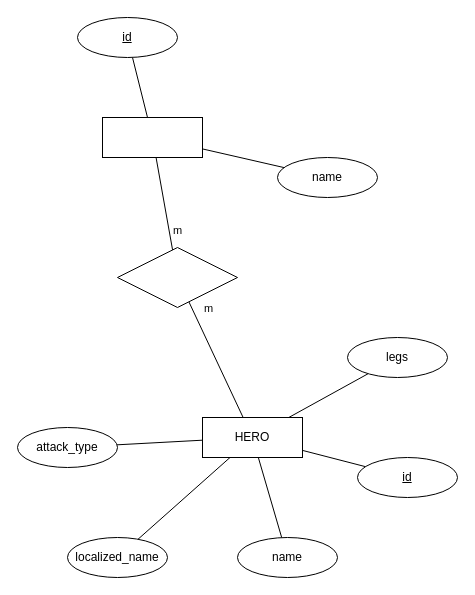
Some shapes in this 475 by 595 pixel diagram are drawn without their labels. The box of each missing label's shape, as (x1, y1, x2, y2) in pixels:
has: (116, 246, 238, 308)
ROLE: (102, 116, 202, 158)
